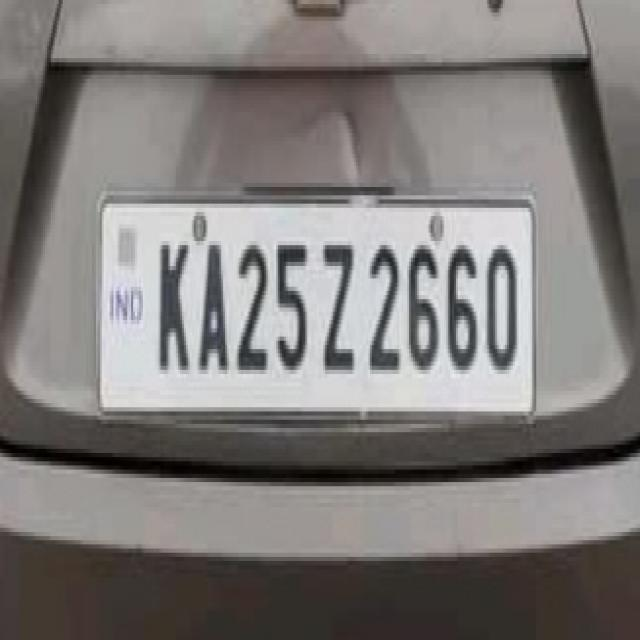0: (484, 235, 522, 372)
5: (272, 230, 315, 376)
6: (446, 242, 484, 376), (406, 237, 440, 375)
A: (194, 232, 234, 384)
K: (151, 233, 194, 382)
Z: (321, 228, 358, 382)
